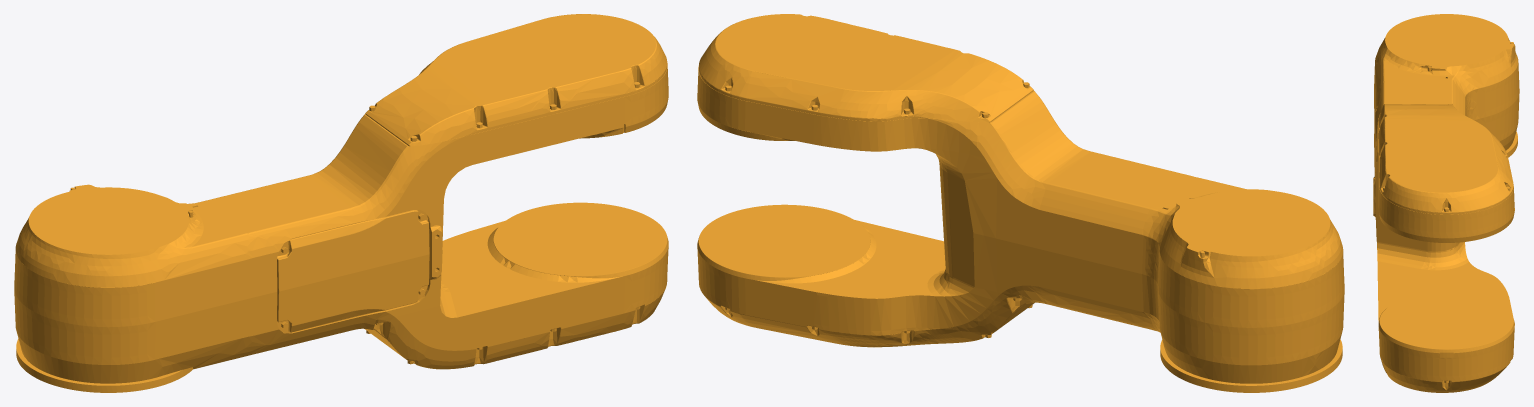
File: ABBIRB1200Link2.dae
3 renders of one model, left to right at view 1: azimuth 30°, elevation 25°; view 2: azimuth 150°, elevation 25°; view 3: azimuth 270°, elevation 25°, orthographic. The views are drawn at different scales.
Visible parts, largest first — view 1: ABBIRB1200Link2; view 2: ABBIRB1200Link2; view 3: ABBIRB1200Link2.
Boxes of the visible parts, left/top/right/bottom form: ABBIRB1200Link2: left=14, top=14, right=668, bottom=392; ABBIRB1200Link2: left=697, top=14, right=1344, bottom=392; ABBIRB1200Link2: left=1373, top=14, right=1519, bottom=392.
Bounding box in the file's own units: 0.598 × 0.1555 × 0.235.
